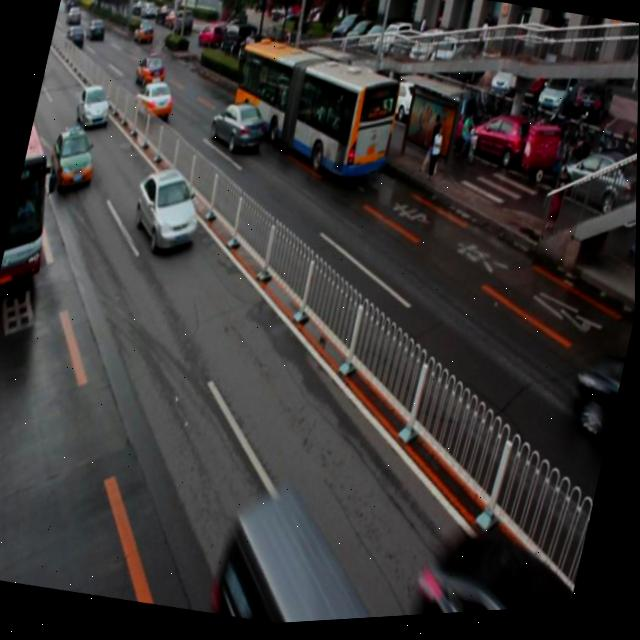car: (413, 534, 582, 620), (126, 162, 209, 262), (205, 98, 269, 162), (46, 124, 99, 194), (131, 73, 178, 126), (73, 82, 115, 134), (133, 52, 169, 92)
truck: (216, 481, 413, 630)
van: (217, 30, 407, 200), (0, 97, 75, 305)
